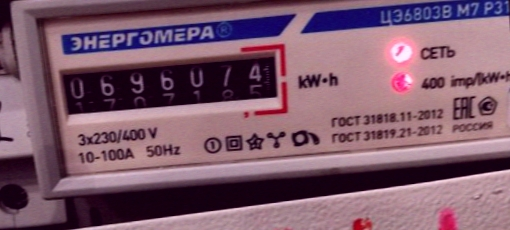0: (65, 74, 86, 99), (187, 62, 205, 89)
4: (245, 58, 262, 81)
5: (248, 83, 265, 99)
6: (158, 65, 177, 92), (97, 71, 116, 97)
7: (217, 61, 236, 87)
9: (127, 68, 145, 95)
screen: (48, 39, 293, 126)
